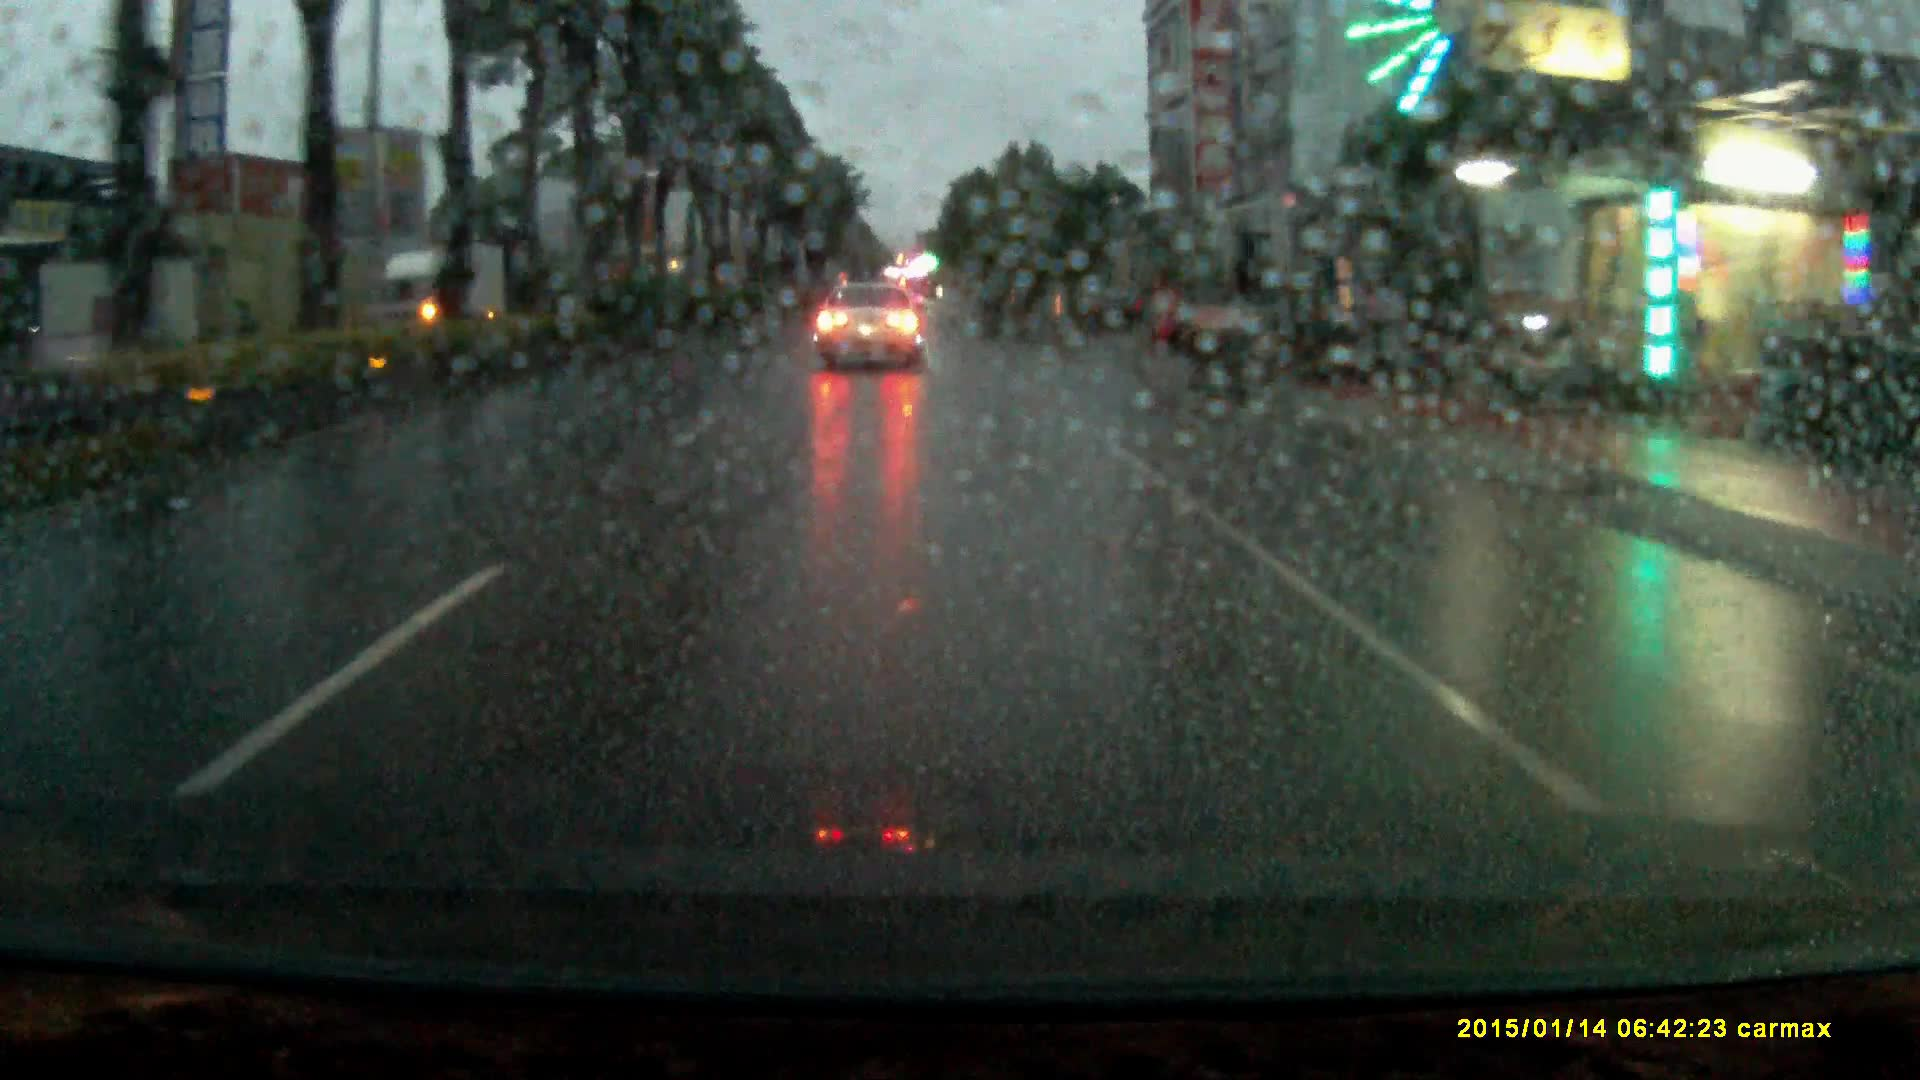vehicle: (375, 247, 505, 326), (815, 287, 920, 382), (1064, 289, 1143, 339)
